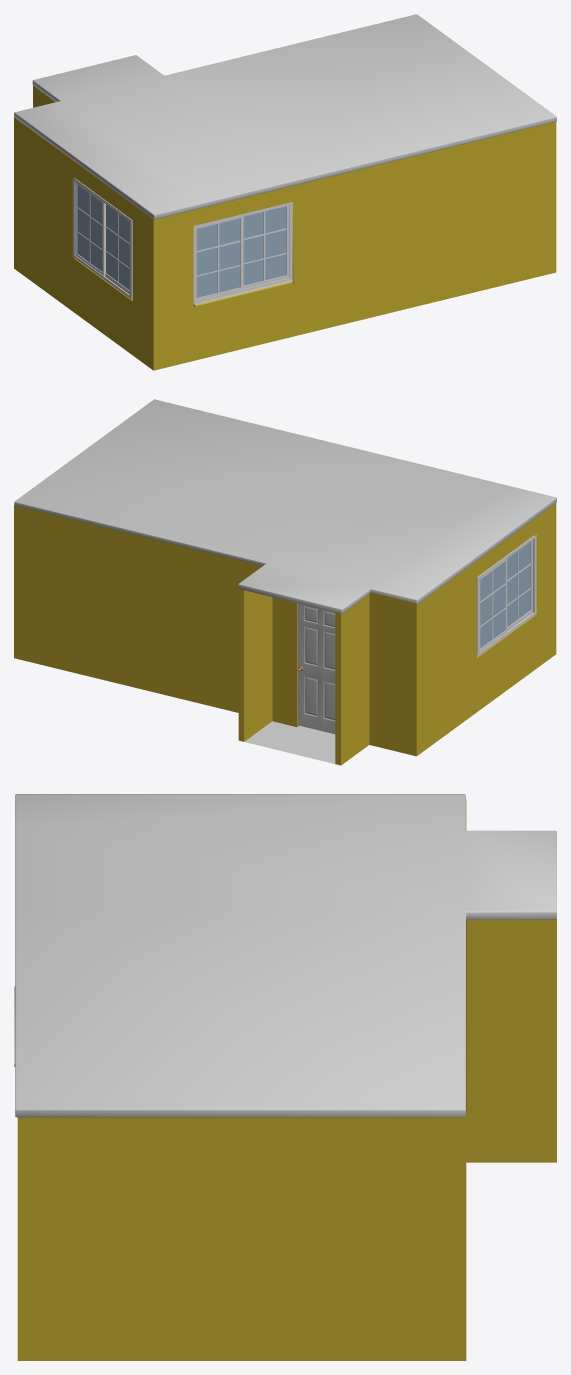
The model's file is RoomOption2.fbx.
The picture shows the model from 3 angles, top to bottom: view 1: azimuth 30°, elevation 25°; view 2: azimuth 150°, elevation 25°; view 3: azimuth 270°, elevation 25°; orthographic projection. The views are drawn at different scales.
Visible parts, largest first — view 1: Walls, Ceiling, Window_1, Window_2, Window_Frame_2, Window_Frame_1; view 2: Walls, Ceiling, ClosteDoor, Window_2, Floor, Window_Frame_2; view 3: Ceiling, Walls.
Part boxes in pixels (left/top/right/bottom): Walls: left=14, top=85, right=556, bottom=370; Ceiling: left=14, top=14, right=556, bottom=219; Window_1: left=195, top=204, right=289, bottom=300; Window_2: left=75, top=182, right=129, bottom=294; Window_Frame_2: left=72, top=177, right=132, bottom=299; Window_Frame_1: left=193, top=202, right=292, bottom=303; Walls: left=14, top=503, right=556, bottom=765; Ceiling: left=14, top=399, right=556, bottom=613; ClosteDoor: left=297, top=603, right=335, bottom=734; Window_2: left=480, top=540, right=532, bottom=651; Floor: left=244, top=721, right=335, bottom=763; Window_Frame_2: left=477, top=534, right=536, bottom=656; Ceiling: left=15, top=794, right=556, bottom=1117; Walls: left=17, top=800, right=556, bottom=1360.
Bounding box in the file's own units: 1880 × 698 × 1362.
